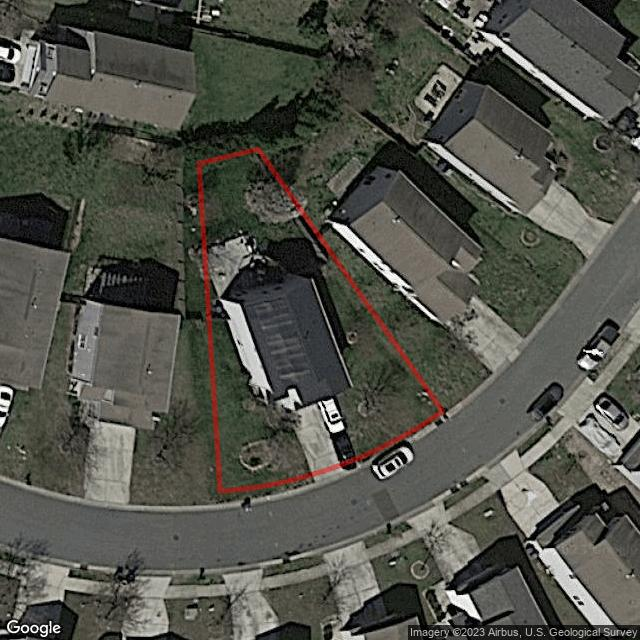Driveway: (295, 404, 339, 471)
Extra Driveway: (312, 467, 348, 488)
Extra Lawn: (218, 478, 314, 502)
Extra Sidewalk: (219, 483, 317, 510)
House: (222, 274, 352, 418)
